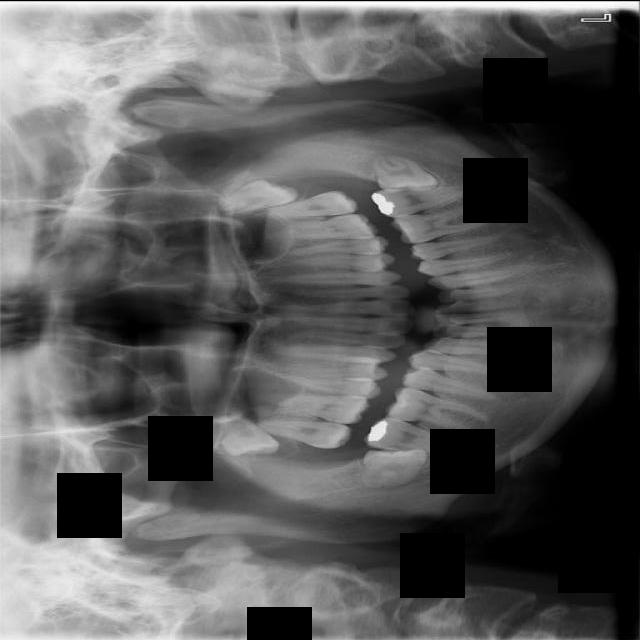3M ESPE Implant: (216, 413, 281, 455)
52: (361, 408, 417, 458), (371, 182, 425, 220)
73: (590, 74, 601, 82)
BioHorizons Implant: (251, 188, 358, 220)
BioLife Implant: (217, 170, 301, 219)
Biomet 3i Implant: (368, 152, 441, 197)
Blue Sky Bio Implant: (371, 181, 468, 219)
Caries: (256, 417, 353, 450)
Implant: (362, 413, 469, 460)
Keystone Dental Implant: (359, 446, 429, 489)
